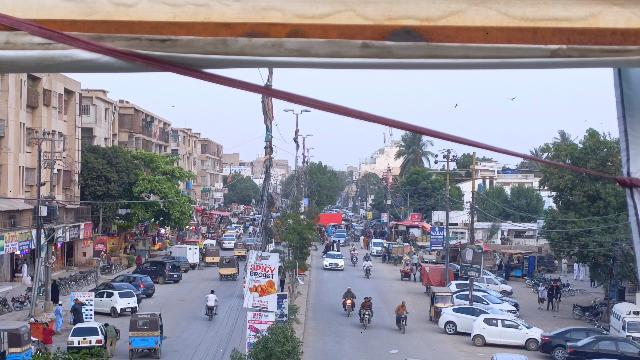Bike: (342, 294, 357, 318), (395, 311, 409, 334), (202, 304, 218, 322), (360, 310, 372, 331), (362, 264, 374, 279)
Car: (469, 312, 541, 351), (537, 324, 603, 359), (564, 333, 640, 360), (438, 302, 493, 336), (66, 321, 105, 356), (92, 288, 139, 317), (133, 259, 183, 285), (116, 271, 156, 298), (322, 251, 346, 270)
Cart: (397, 255, 414, 282)
Person: (103, 320, 119, 357), (41, 322, 58, 356), (68, 297, 90, 322), (52, 297, 65, 333), (535, 281, 547, 312), (552, 283, 562, 312), (544, 281, 554, 309), (361, 293, 374, 314), (50, 277, 60, 303), (395, 298, 410, 315), (204, 287, 218, 304), (342, 285, 357, 300), (362, 257, 373, 268)
Rickshaw: (126, 310, 167, 360), (426, 286, 454, 324), (218, 253, 240, 284)
Suzuki: (608, 299, 640, 342)
Truck: (172, 243, 200, 267)
